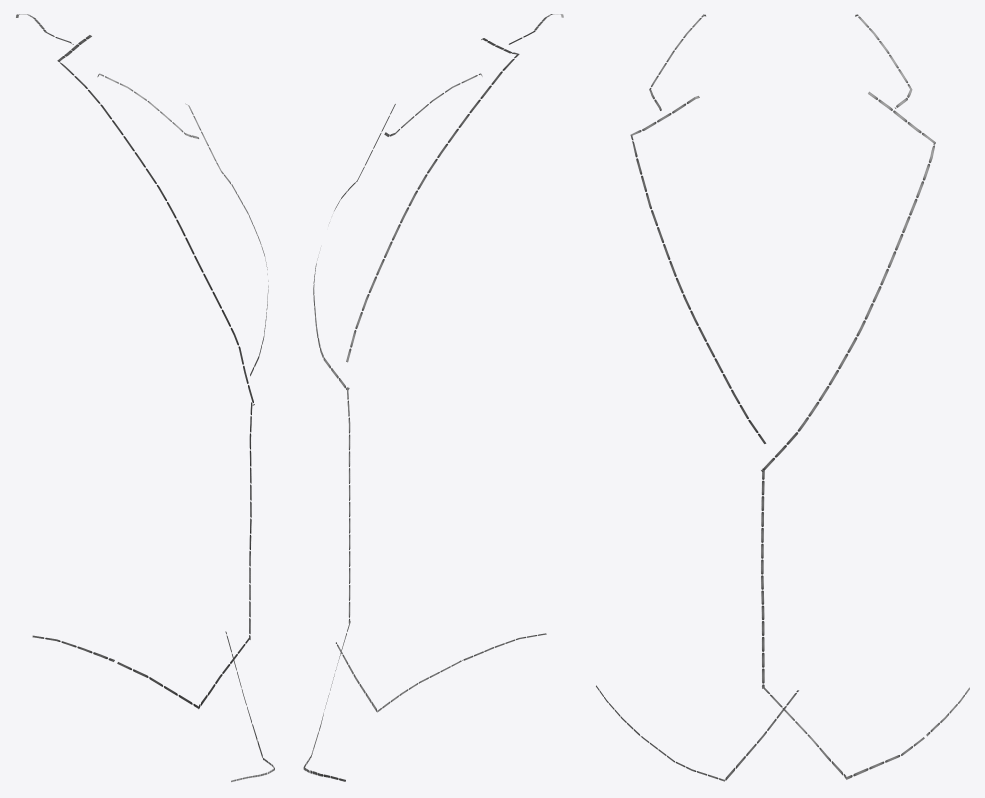
File: notch_reguler_lapel_stitching.glb
3 renders of one model, left to right at view 1: azimuth 30°, elevation 25°; view 2: azimuth 150°, elevation 25°; view 3: azimuth 270°, elevation 25°, orthographic. The views are drawn at different scales.
Parts seen in each view (by area): view 1: SM_Stitching_notch_reguler_lapel; view 2: SM_Stitching_notch_reguler_lapel; view 3: SM_Stitching_notch_reguler_lapel.
Boxes of the visible parts, left/top/right/bottom form: SM_Stitching_notch_reguler_lapel: left=16, top=14, right=274, bottom=781; SM_Stitching_notch_reguler_lapel: left=303, top=14, right=563, bottom=781; SM_Stitching_notch_reguler_lapel: left=596, top=14, right=969, bottom=781.
Size of the model in its own units: 1.02 by 3.73 by 1.84.
1 material, 1 textured.
